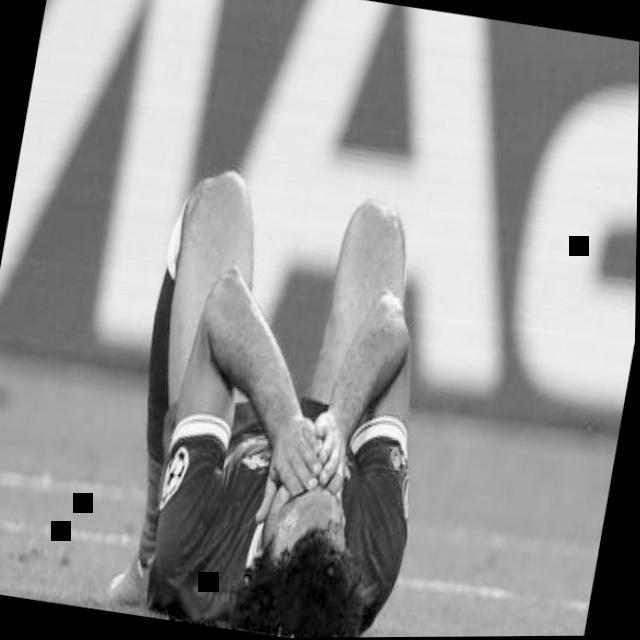Fall-Detected: (88, 132, 492, 639)
